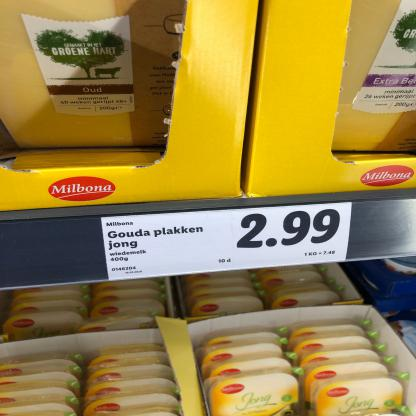prtg: (101, 203, 353, 281)
